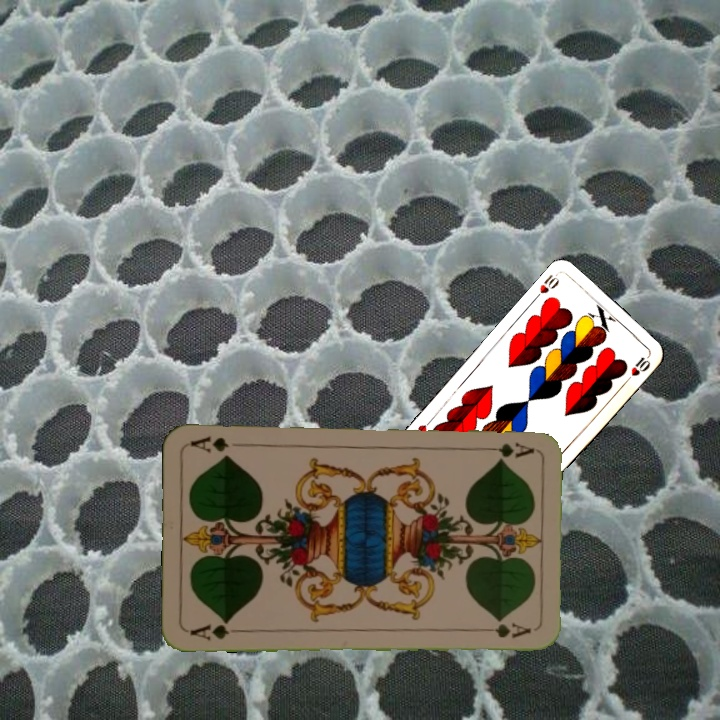GA: (186, 616, 245, 642), (477, 438, 536, 460)
H10: (529, 270, 562, 304)
